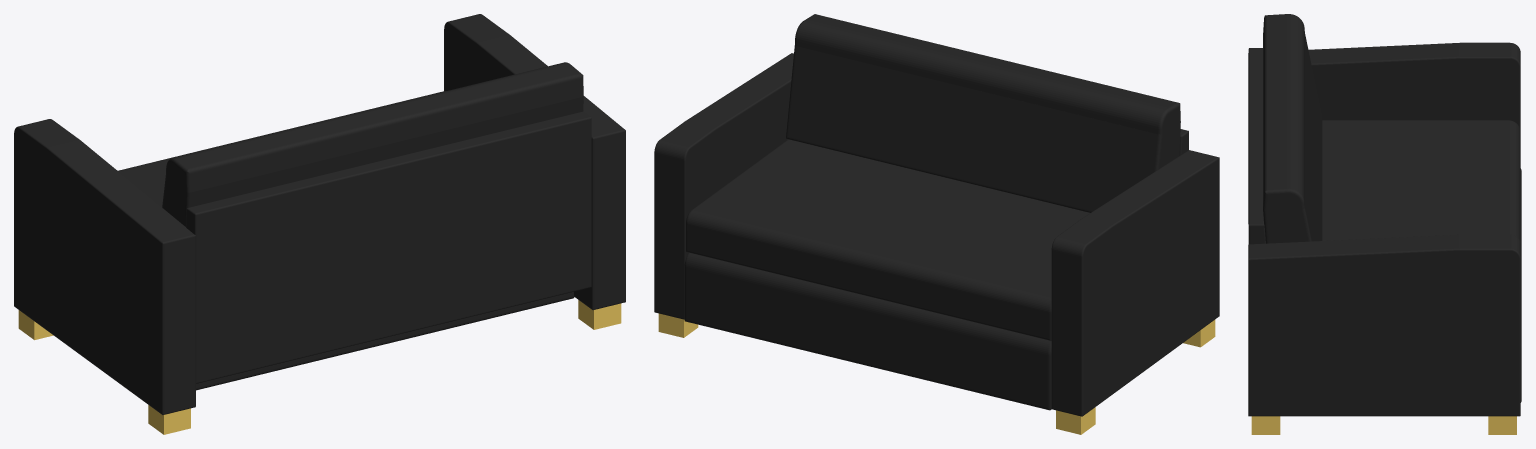
3 views of the same model, side by side, from view 1: azimuth 30°, elevation 25°; view 2: azimuth 150°, elevation 25°; view 3: azimuth 270°, elevation 25° (orthographic). The views are drawn at different scales.
Parts seen in each view (by area): view 1: Mesh7 Component_5_1 ikea_sofa1 Model, Mesh4 Component_2_2 ikea_sofa1 Model, Mesh8 Component_6_1 ikea_sofa1 Model, Mesh2 Component_2_1 ikea_sofa1 Model, Mesh10 ikea_sofa1 Model, Mesh9 Component_7_1 ikea_sofa1 Model, Mesh3 Component_1_2 ikea_sofa1 Model, Mesh6 Component_1_4 ikea_sofa1 Model; view 2: Mesh8 Component_6_1 ikea_sofa1 Model, Mesh9 Component_7_1 ikea_sofa1 Model, Mesh4 Component_2_2 ikea_sofa1 Model, Mesh10 ikea_sofa1 Model, Mesh2 Component_2_1 ikea_sofa1 Model, Mesh5 Component_1_3 ikea_sofa1 Model, Mesh1 Component_1_1 ikea_sofa1 Model; view 3: Mesh2 Component_2_1 ikea_sofa1 Model, Mesh9 Component_7_1 ikea_sofa1 Model, Mesh4 Component_2_2 ikea_sofa1 Model, Mesh8 Component_6_1 ikea_sofa1 Model, Mesh7 Component_5_1 ikea_sofa1 Model, Mesh3 Component_1_2 ikea_sofa1 Model, Mesh1 Component_1_1 ikea_sofa1 Model, Mesh10 ikea_sofa1 Model.
Part boxes in pixels (x1,y1,x2,y2): Mesh7 Component_5_1 ikea_sofa1 Model: [186, 111, 591, 383]; Mesh4 Component_2_2 ikea_sofa1 Model: [14, 119, 195, 414]; Mesh8 Component_6_1 ikea_sofa1 Model: [162, 62, 583, 226]; Mesh2 Component_2_1 ikea_sofa1 Model: [444, 14, 625, 309]; Mesh10 ikea_sofa1 Model: [196, 291, 574, 390]; Mesh9 Component_7_1 ikea_sofa1 Model: [118, 91, 445, 207]; Mesh3 Component_1_2 ikea_sofa1 Model: [578, 300, 621, 329]; Mesh6 Component_1_4 ikea_sofa1 Model: [148, 405, 190, 434]; Mesh8 Component_6_1 ikea_sofa1 Model: [786, 14, 1180, 212]; Mesh9 Component_7_1 ikea_sofa1 Model: [686, 139, 1089, 340]; Mesh4 Component_2_2 ikea_sofa1 Model: [1051, 150, 1219, 416]; Mesh10 ikea_sofa1 Model: [684, 252, 1051, 410]; Mesh2 Component_2_1 ikea_sofa1 Model: [654, 53, 793, 319]; Mesh5 Component_1_3 ikea_sofa1 Model: [1056, 407, 1095, 434]; Mesh1 Component_1_1 ikea_sofa1 Model: [658, 313, 698, 337]; Mesh2 Component_2_1 ikea_sofa1 Model: [1248, 234, 1520, 416]; Mesh9 Component_7_1 ikea_sofa1 Model: [1322, 120, 1520, 241]; Mesh4 Component_2_2 ikea_sofa1 Model: [1248, 42, 1520, 223]; Mesh8 Component_6_1 ikea_sofa1 Model: [1263, 14, 1322, 243]; Mesh7 Component_5_1 ikea_sofa1 Model: [1248, 48, 1265, 244]; Mesh3 Component_1_2 ikea_sofa1 Model: [1251, 416, 1280, 434]; Mesh1 Component_1_1 ikea_sofa1 Model: [1488, 416, 1516, 434]; Mesh10 ikea_sofa1 Model: [1520, 167, 1521, 402].
Bounding box in the file's own units: 0.8063 × 0.4201 × 0.4503.
